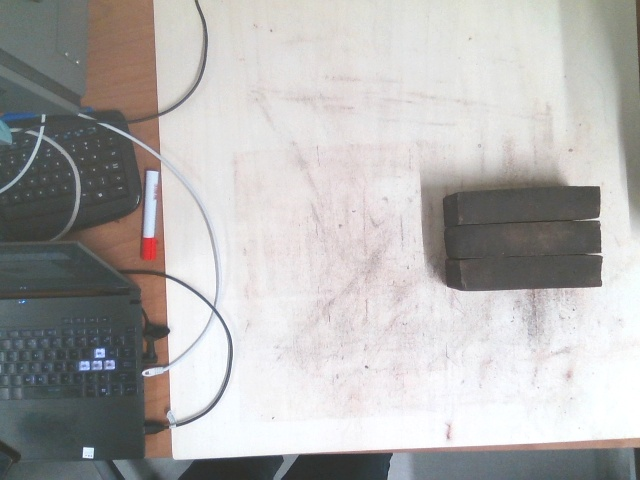brick-side: (460, 185, 597, 223), (462, 253, 599, 290), (459, 220, 595, 257)
